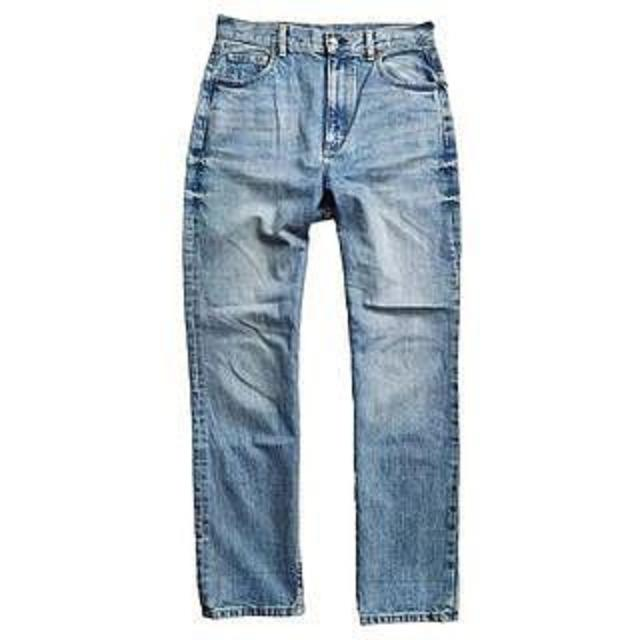TROUSER: (173, 11, 477, 626)
